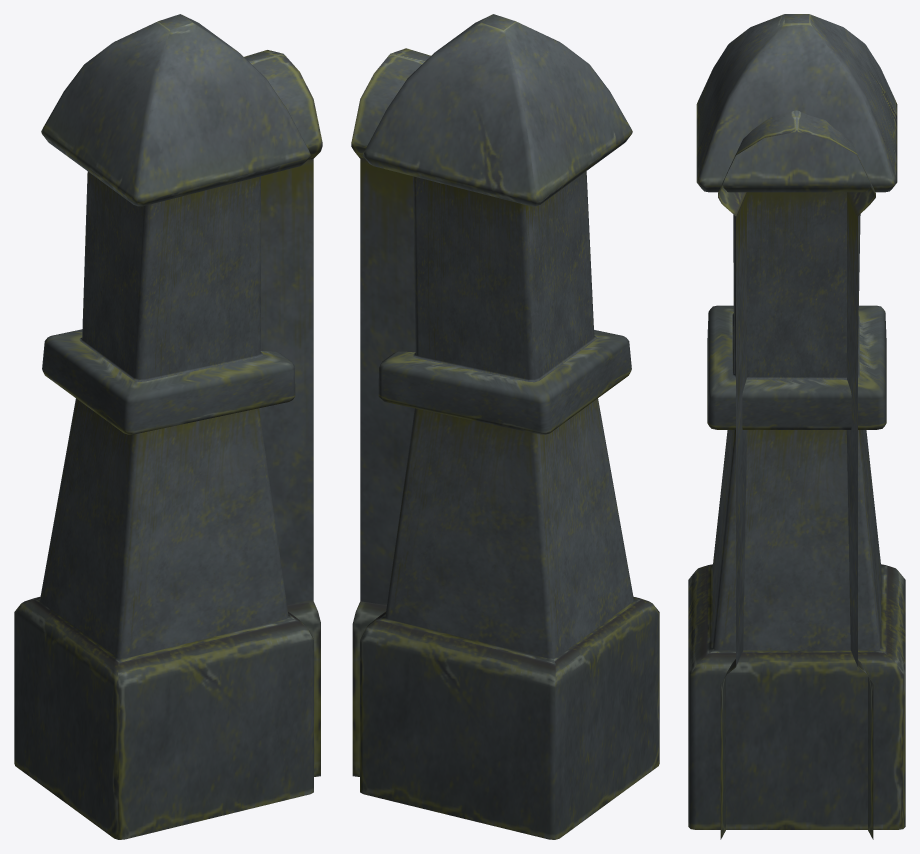
File: WallTall_End.fbx
3 renders of one model, left to right at view 1: azimuth 30°, elevation 25°; view 2: azimuth 150°, elevation 25°; view 3: azimuth 270°, elevation 25°, orthographic.
Parts seen in each view (by area): view 1: Wall_End, Wall_End2; view 2: Wall_End, Wall_End2; view 3: Wall_End, Wall_End2.
Part boxes in pixels (x1,y1,x2,y2): Wall_End: [14, 14, 313, 839]; Wall_End2: [244, 50, 322, 776]; Wall_End: [360, 14, 659, 839]; Wall_End2: [351, 48, 430, 776]; Wall_End: [688, 14, 905, 829]; Wall_End2: [718, 110, 875, 839].
Bounding box in the file's own units: 82.95 × 273 × 69.82.
